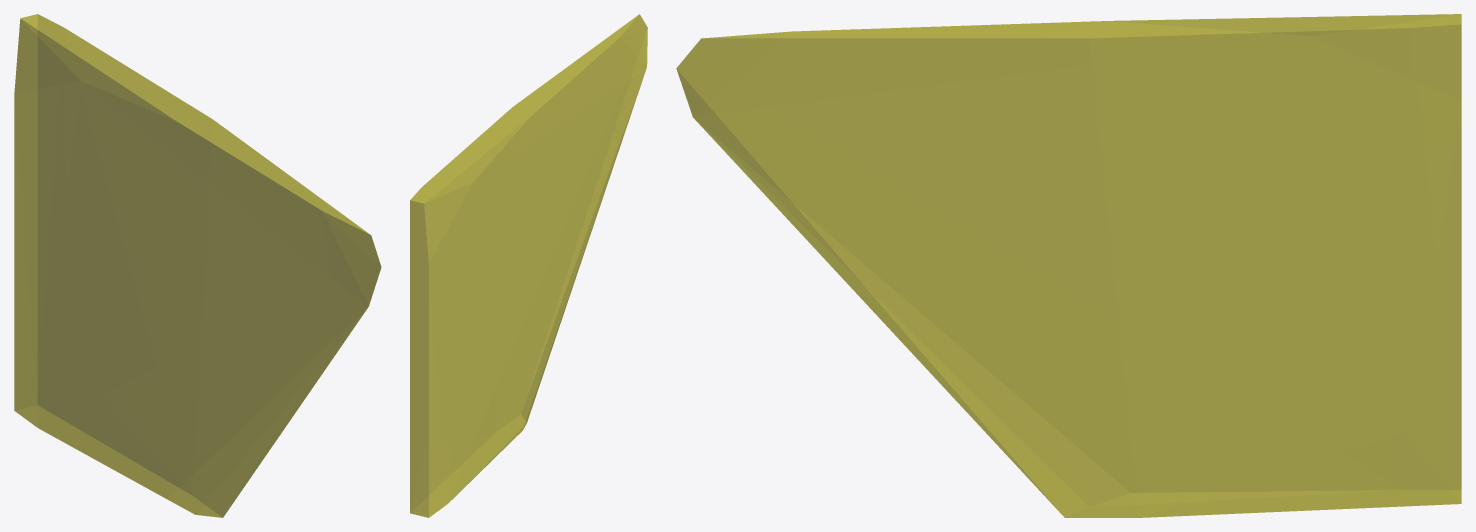
The picture shows the model from 3 angles, left to right: view 1: azimuth 30°, elevation 25°; view 2: azimuth 150°, elevation 25°; view 3: azimuth 270°, elevation 25°; orthographic projection. The views are drawn at different scales.
Visible parts, largest first — view 1: Shape_IndexedFaceSet.027_Shape_IndexedFaceSet.11819; view 2: Shape_IndexedFaceSet.027_Shape_IndexedFaceSet.11819; view 3: Shape_IndexedFaceSet.027_Shape_IndexedFaceSet.11819.
Part boxes in pixels (left/top/right/bottom): Shape_IndexedFaceSet.027_Shape_IndexedFaceSet.11819: left=14, top=14, right=381, bottom=517; Shape_IndexedFaceSet.027_Shape_IndexedFaceSet.11819: left=410, top=14, right=647, bottom=517; Shape_IndexedFaceSet.027_Shape_IndexedFaceSet.11819: left=676, top=14, right=1461, bottom=517.
Bounding box in the file's own units: 0.0403 × 0.3224 × 0.4785.
